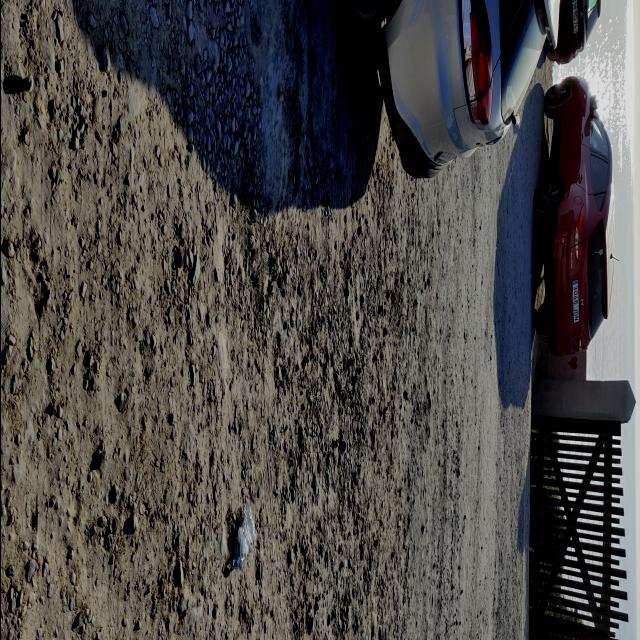Clear plastic bottle: (232, 502, 254, 568)
